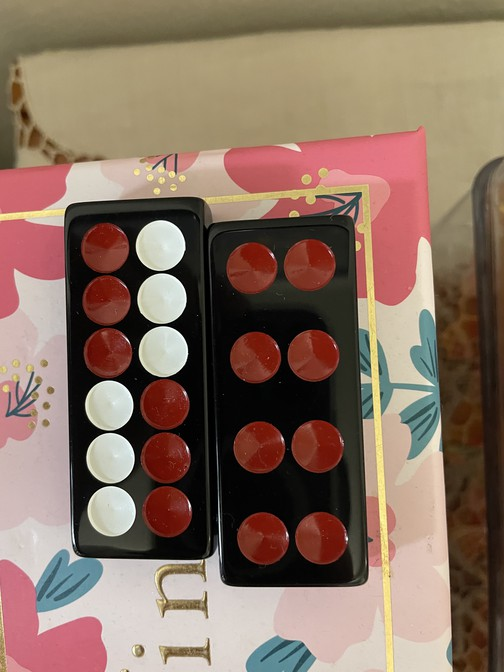heaven: (63, 198, 215, 561)
man: (204, 220, 369, 587)
